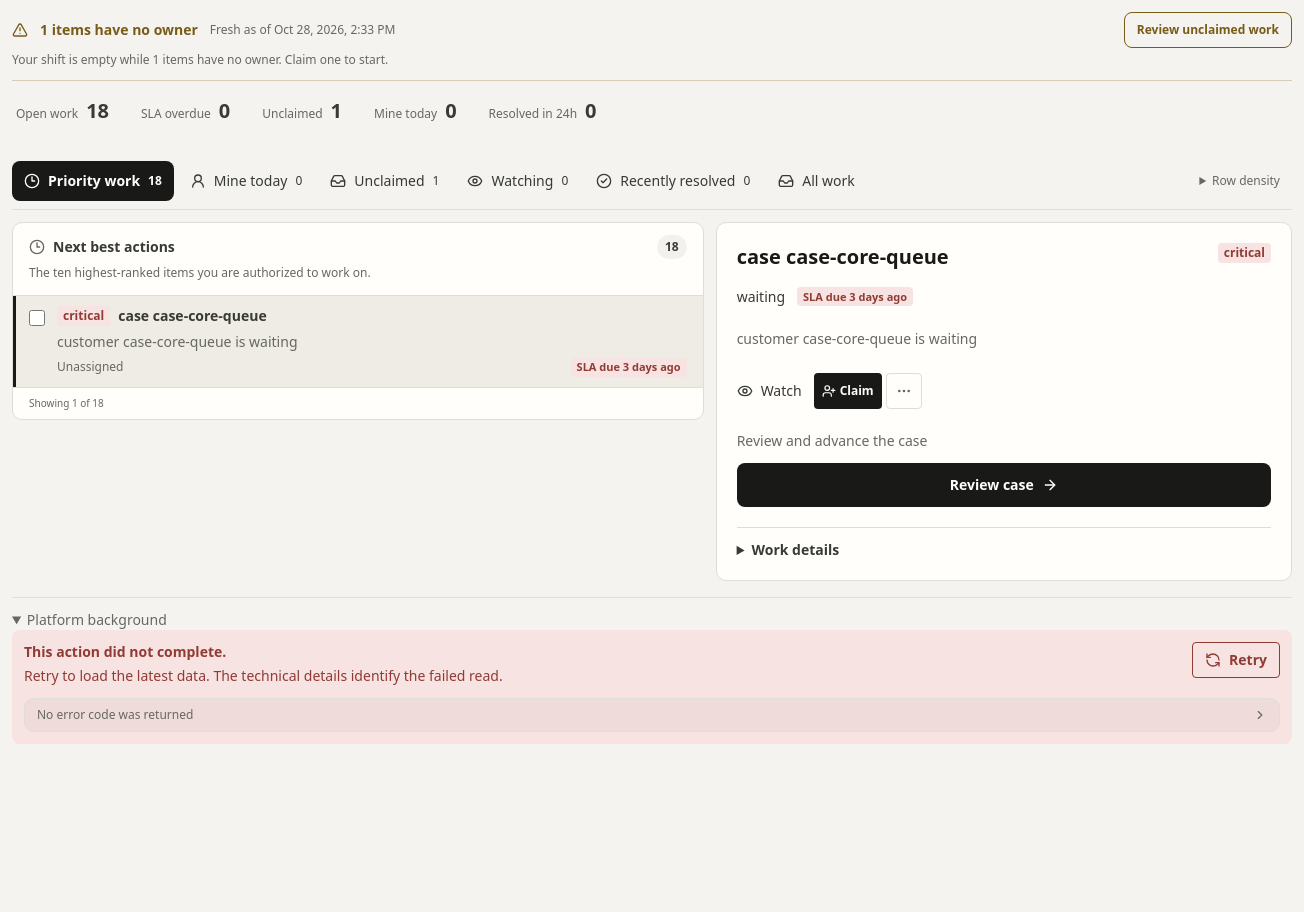
Test case: Today operator actions › loads the queue independently and lazily retries background totals without counting the preview rows
This screenshot has width=1304, height=912.
Expected: the message that starts with "This action did not complete." is shown, [12,630,1292,744]
Click the button "Retry" at (1236, 660), box [1192,642,1280,678]
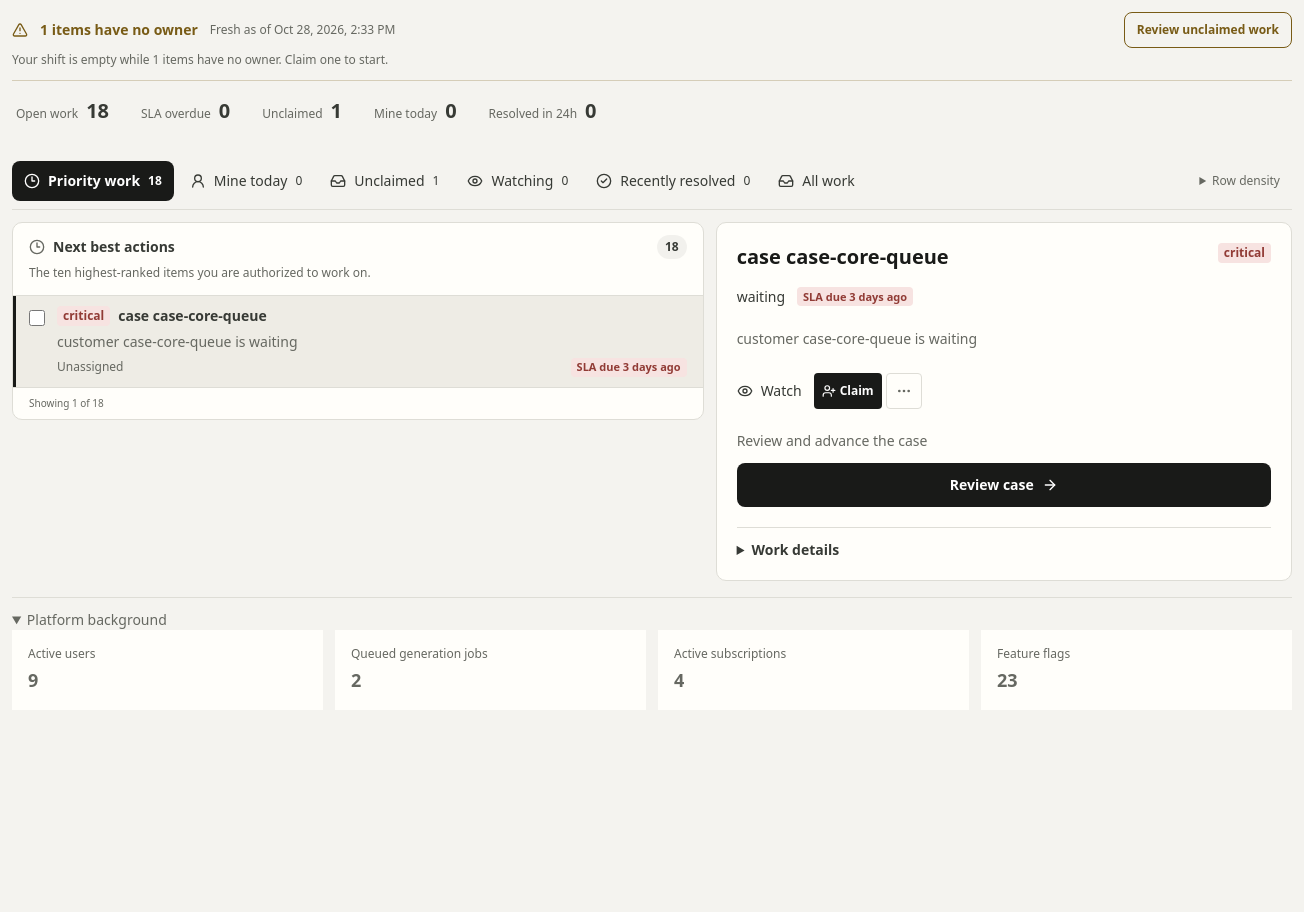
Expected: the element that starts with "Platform background" shows "23", [997,668,1018,692]
